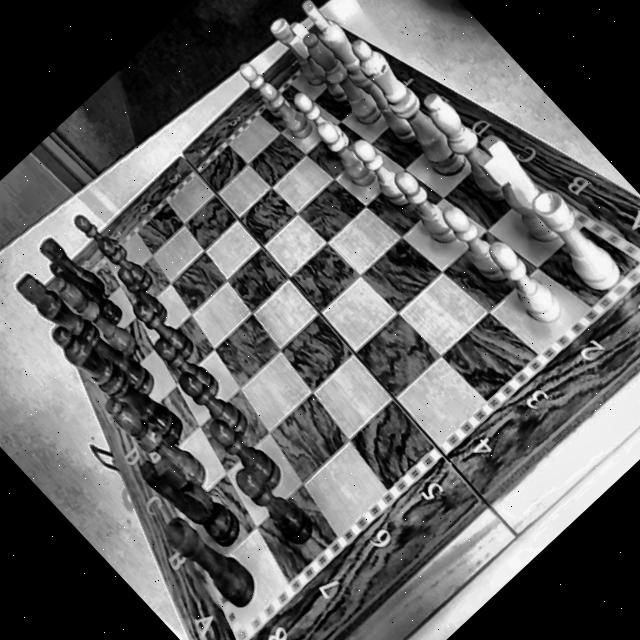black-pawn: (223, 450, 339, 570)
white-pawn: (480, 232, 586, 344)
